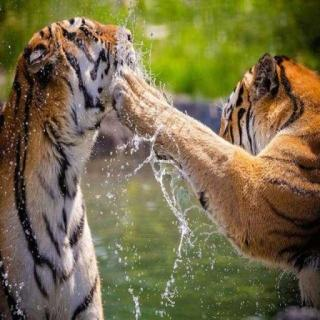Tiger: (109, 33, 320, 294), (0, 6, 158, 320)
